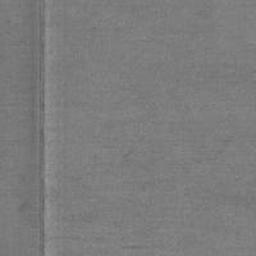Welding line: (37, 0, 47, 256)
